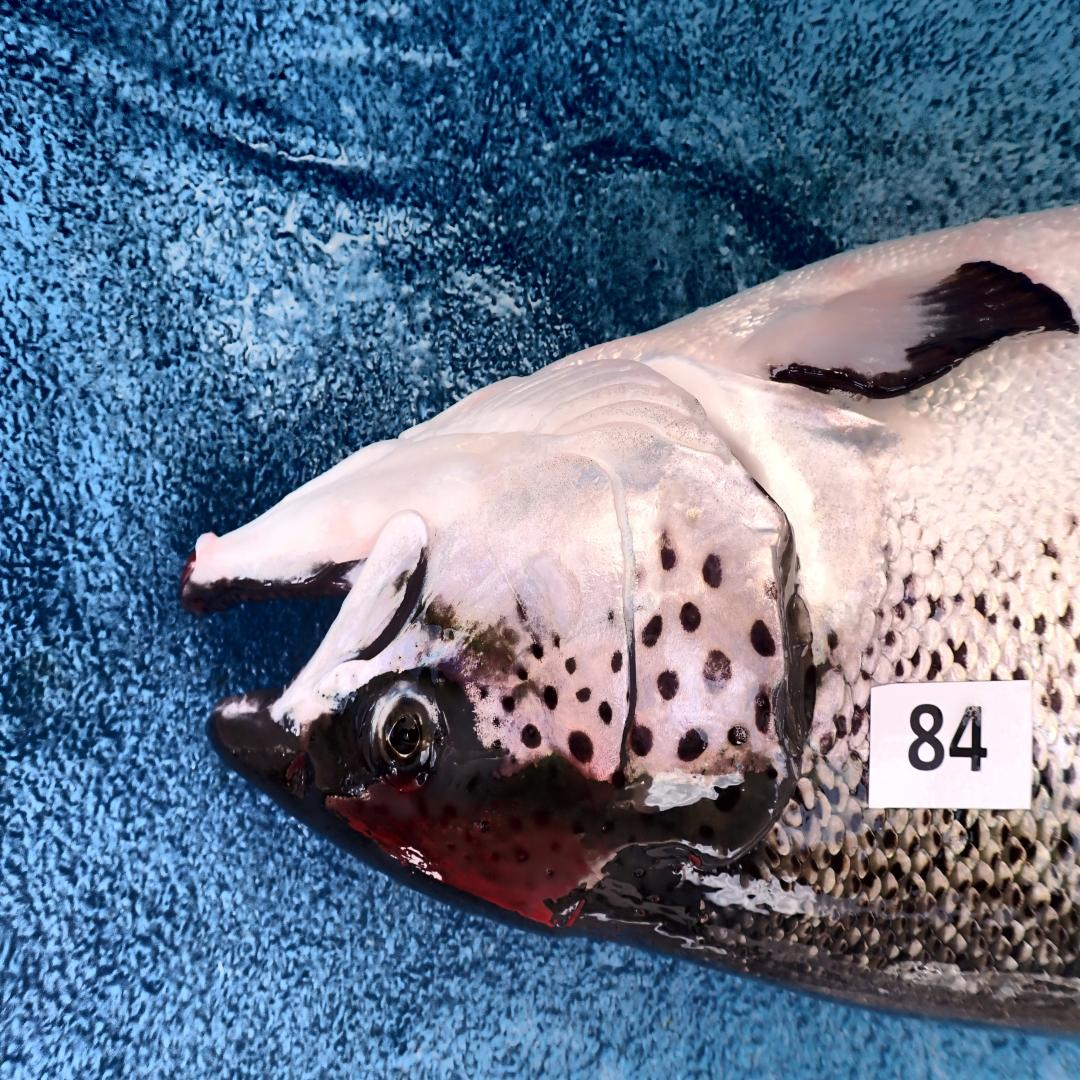spot: (703, 650, 732, 695), (677, 728, 707, 763), (750, 619, 776, 656), (567, 731, 593, 763), (754, 689, 772, 734), (630, 724, 653, 757), (702, 554, 723, 588), (641, 615, 663, 647), (679, 602, 701, 633), (658, 669, 679, 700), (660, 534, 677, 571), (520, 725, 542, 748), (727, 726, 749, 746), (599, 700, 612, 726), (544, 686, 557, 709), (611, 650, 623, 673), (576, 686, 591, 703), (764, 581, 777, 600), (502, 695, 515, 712), (516, 601, 526, 621), (565, 658, 576, 675), (532, 644, 544, 658), (479, 684, 489, 699), (518, 669, 528, 680), (493, 718, 501, 728), (554, 635, 560, 648), (608, 610, 614, 621), (494, 740, 501, 747)
